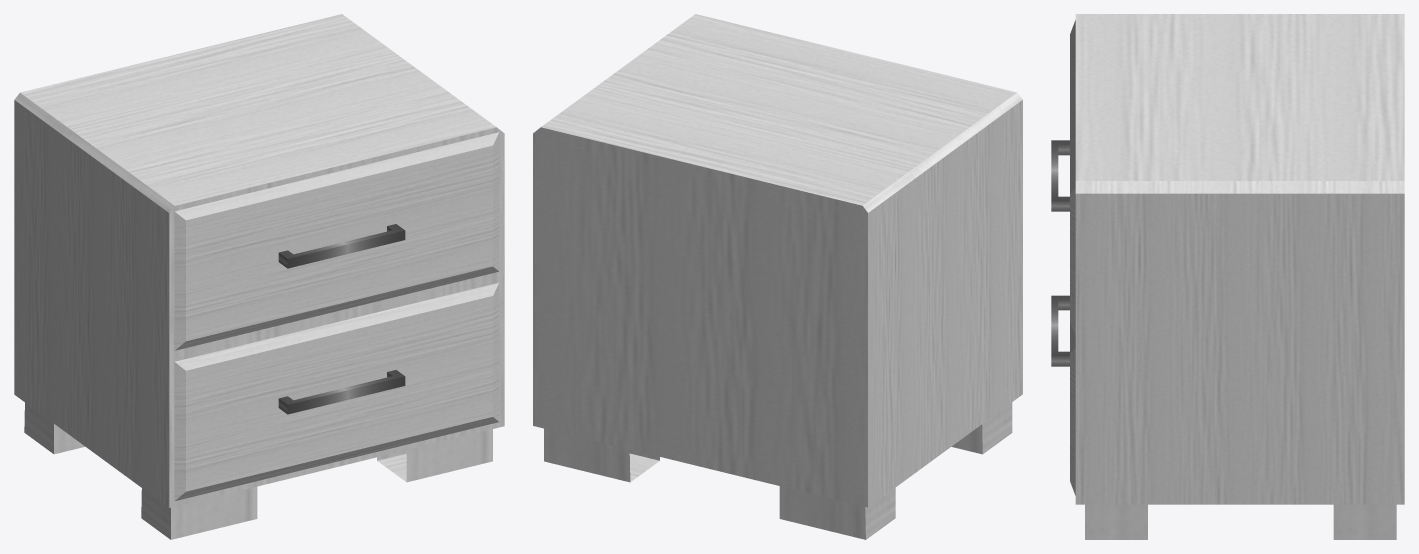
The model's file is Kids_Nightstand_F.FBX.
3 views of the same model, side by side, from view 1: azimuth 30°, elevation 25°; view 2: azimuth 150°, elevation 25°; view 3: azimuth 270°, elevation 25° (orthographic). The views are drawn at different scales.
Visible parts, largest first — view 1: Kids_nightstand; view 2: Kids_nightstand; view 3: Kids_nightstand.
Part boxes in pixels (left/top/right/bottom): Kids_nightstand: left=14, top=14, right=504, bottom=539; Kids_nightstand: left=533, top=14, right=1022, bottom=539; Kids_nightstand: left=1051, top=14, right=1404, bottom=539.
Size of the model in its own units: 140 by 135 by 120.
